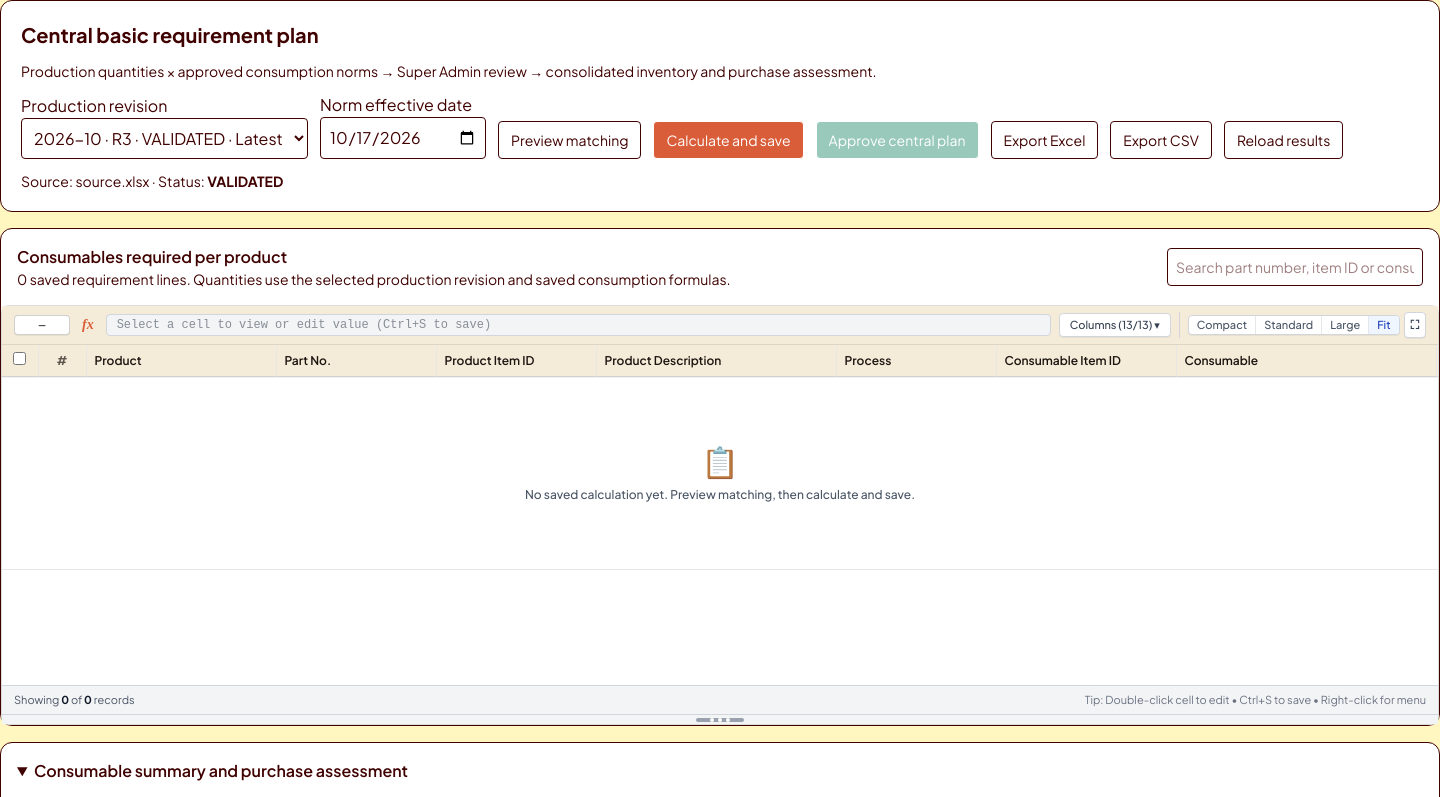
Test case: a result-read timeout after saving can be recovered without recalculating or showing stale zero rows
Expected: the text "0 saved requirement lines" is shown, [17,269,731,289]
What coordinates should you click on to do the following:
click the button "Calculate and save"
I would click on:
 (729, 140)
Its box is [654,121,804,159].
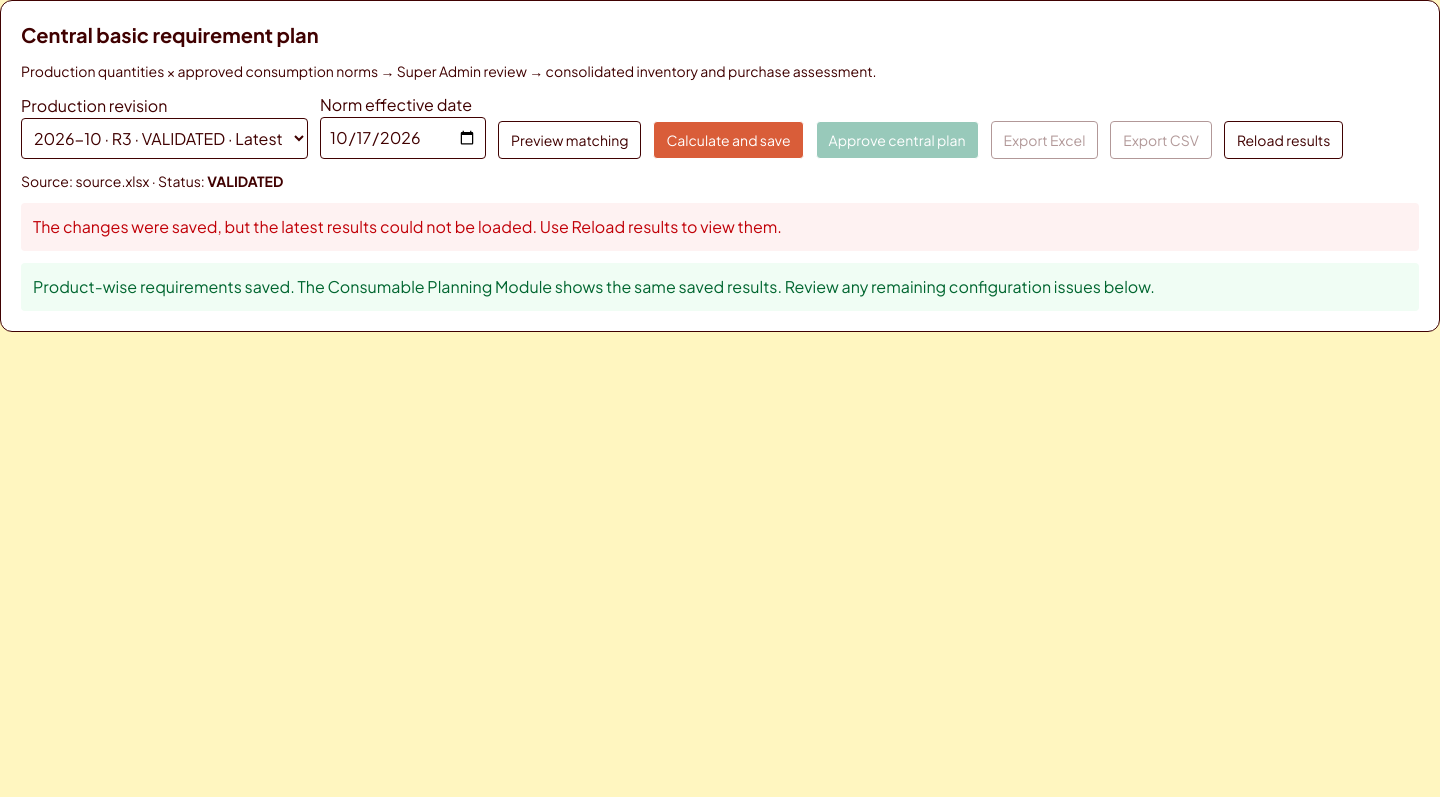
Expected: the button "Approve central plan" is disabled, [816,121,979,159]
Expected: the text "The changes were saved, but the latest results could not be loaded" is shown, [33,216,782,237]
Expected: the text "0 saved requirement lines" is gone
What coordinates should you click on to do the following:
click the button "Reload results"
I would click on:
 (1284, 140)
Its box is [1224,121,1343,159].
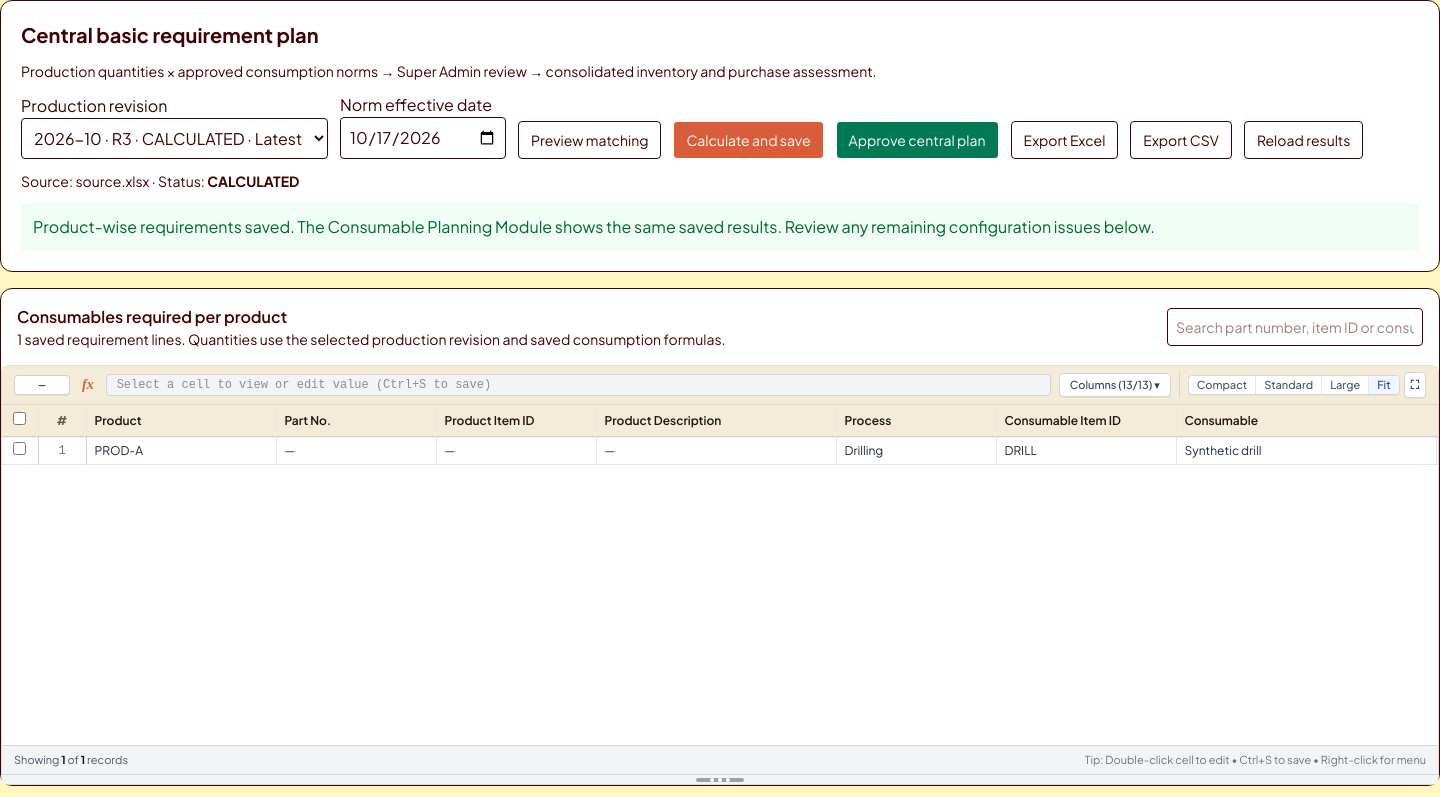
Expected: the cell "PROD-A" is shown, [86,436,276,464]
